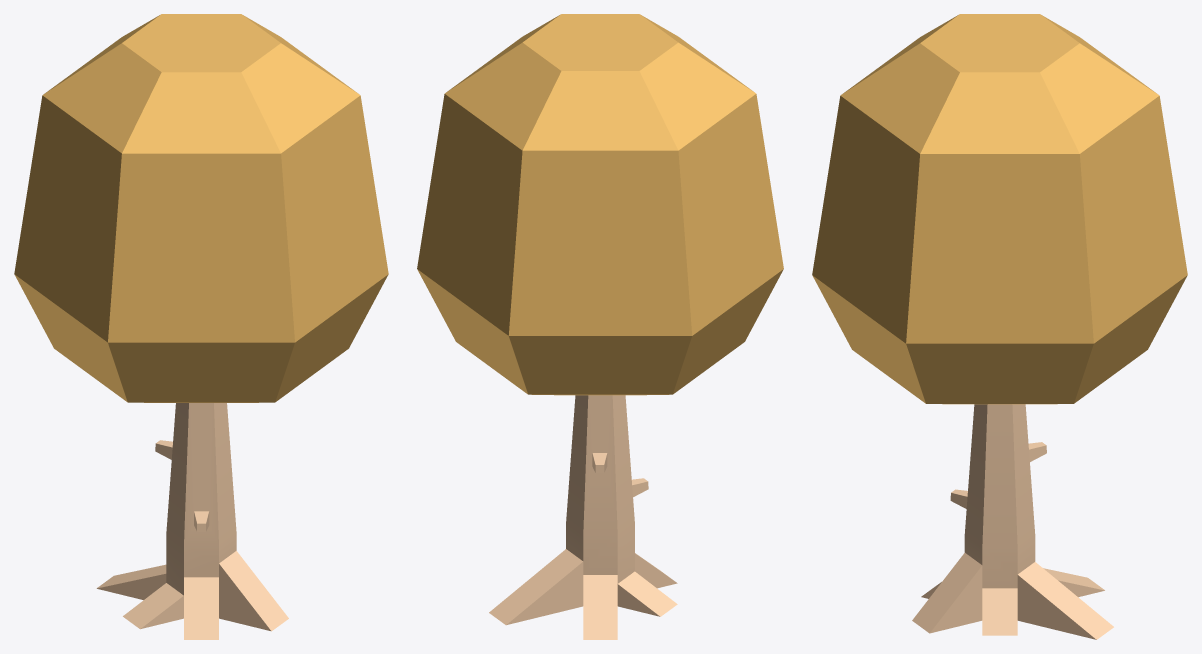
Rendered from tree_oak_fall.glb.
3 views of the same model, side by side, from view 1: azimuth 30°, elevation 25°; view 2: azimuth 150°, elevation 25°; view 3: azimuth 270°, elevation 25° (orthographic). The views are drawn at different scales.
Parts seen in each view (by area): view 1: tree_oak_fall; view 2: tree_oak_fall; view 3: tree_oak_fall.
Part boxes in pixels (x1,y1,x2,y2): tree_oak_fall: (14, 14, 388, 639); tree_oak_fall: (417, 14, 783, 639); tree_oak_fall: (812, 14, 1187, 639).
Size of the model in its own units: 0.6406 by 1.23 by 0.7396.
